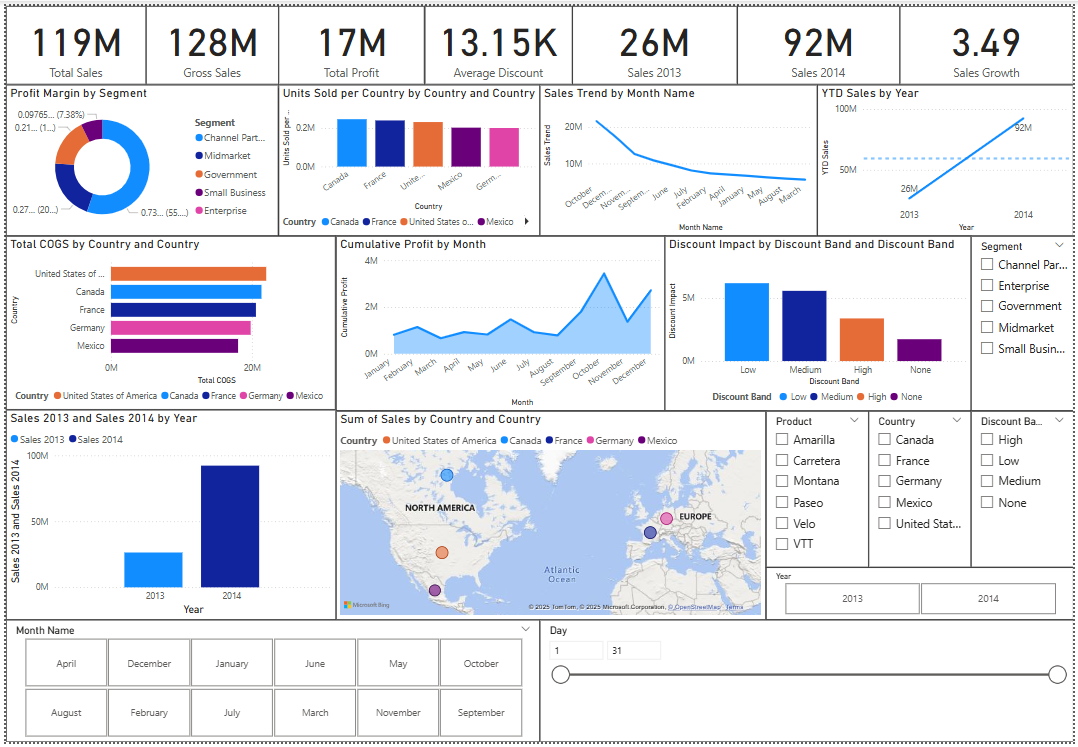

Layout of this report page (visuals, bound fields, positions):
{"tool":"powerbi","page":{"name":"Financials Data Analysis","canvas":[1480,1020],"ordinal":0},"visuals":[{"type":"card","fields":{"Values":["Financials.Total Sales"]},"box":[0,0,194,109.1],"z":0},{"type":"card","fields":{"Values":["Financials.Gross Sales"]},"box":[194,0,183.6,109.1],"z":1000},{"type":"card","fields":{"Values":["Financials.Total Profit"]},"box":[377.7,0,202.7,109.1],"z":2000},{"type":"card","fields":{"Values":["Financials.Average Discount"]},"box":[580.3,0,204.4,109.1],"z":3000},{"type":"donutChart","fields":{"Y":["Financials.Profit Margin"],"Category":["Financials.Segment"]},"box":[0,109.1,377.7,209.6],"z":4000},{"type":"columnChart","fields":{"Y":["Financials.Units Sold per Country"],"Category":["Financials.Country"],"Series":["Financials.Country"]},"box":[377.7,109.1,362.1,209.6],"z":5000},{"type":"lineChart","fields":{"Category":["Financials. Month Name "],"Y":["Financials.Sales Trend"]},"box":[739.7,109.1,384.6,209.6],"z":6000},{"type":"lineChart","fields":{"Y":["Financials.YTD Sales"],"Category":["Financials.Date.Variation.Date Hierarchy.Year"]},"box":[1124.3,109.1,355.1,209.6],"z":7000},{"type":"barChart","fields":{"Category":["Financials.Country"],"Y":["Financials.Total COGS"],"Series":["Financials.Country"]},"box":[0,319,456.8,240.8],"z":8000},{"type":"areaChart","fields":{"Category":["Financials.Date.Variation.Date Hierarchy.Month"],"Y":["Financials.Cumulative Profit"]},"box":[457.3,318.8,455.6,242.5],"z":9000},{"type":"columnChart","fields":{"Category":["Financials. Discount Band "],"Y":["Financials.Discount Impact"],"Series":["Financials. Discount Band "]},"box":[912.9,318.8,424.4,242.5],"z":10000},{"type":"columnChart","fields":{"Category":["Financials.Date.Variation.Date Hierarchy.Year"],"Y":["Financials.Sales 2013","Financials.Sales 2014"]},"box":[0,559.5,457.3,291],"z":11000},{"type":"card","fields":{"Values":["Financials.Sales 2013"]},"box":[784.8,0,228.7,109.1],"z":12000},{"type":"card","fields":{"Values":["Financials.Sales 2014"]},"box":[1013.4,0,225.2,109.1],"z":13000},{"type":"card","fields":{"Values":["Financials.Sales Growth"]},"box":[1238.6,0,240.8,109.1],"z":14000},{"type":"map","fields":{"Category":["Financials.Country"],"Series":["Financials.Country"],"Size":["Sum(Financials.  Sales )"]},"box":[457.3,561.3,595.9,289.3],"z":15000},{"type":"slicer","fields":{"Values":["Financials. Product "]},"box":[1053.3,561.3,142.1,216.5],"z":16000},{"type":"slicer","fields":{"Values":["Financials.Country"]},"box":[1195.3,561.3,142.1,216.5],"z":17000},{"type":"slicer","fields":{"Values":["Financials.Segment"]},"box":[1337.4,318.8,142.1,242.5],"z":18000},{"type":"slicer","fields":{"Values":["Financials. Discount Band "]},"box":[1337.4,561.3,142.1,216.5],"z":19000},{"type":"slicer","fields":{"Values":["Financials.Year"]},"box":[1053.3,777.8,426.2,72.8],"z":20000},{"type":"slicer","fields":{"Values":["Financials. Month Name "]},"box":[0,850.6,739.7,169.8],"z":21000},{"type":"slicer","fields":{"Values":["Financials.Date.Variation.Date Hierarchy.Day"]},"box":[739.7,850.6,739.7,169.8],"z":22000}]}

Visuals, with their boxes in screenshot pixels (x1, y1, x2, y2), scaled from the page's 1480x1020 canvas onto the 1078x747 screenshot:
card - Financials.Total Sales: box=[0, 0, 141, 80]
card - Financials.Gross Sales: box=[141, 0, 275, 80]
card - Financials.Total Profit: box=[275, 0, 423, 80]
card - Financials.Average Discount: box=[423, 0, 572, 80]
donutChart - Financials.Profit Margin x Financials.Segment: box=[0, 80, 275, 233]
columnChart - Financials.Units Sold per Country x Financials.Country: box=[275, 80, 539, 233]
lineChart - Financials. Month Name  x Financials.Sales Trend: box=[539, 80, 819, 233]
lineChart - Financials.YTD Sales x Financials.Date.Variation.Date Hierarchy.Year: box=[819, 80, 1077, 233]
barChart - Financials.Country x Financials.Total COGS: box=[0, 234, 333, 410]
areaChart - Financials.Date.Variation.Date Hierarchy.Month x Financials.Cumulative Profit: box=[333, 233, 665, 411]
columnChart - Financials. Discount Band  x Financials.Discount Impact: box=[665, 233, 974, 411]
columnChart - Financials.Date.Variation.Date Hierarchy.Year x Financials.Sales 2013: box=[0, 410, 333, 623]
card - Financials.Sales 2013: box=[572, 0, 738, 80]
card - Financials.Sales 2014: box=[738, 0, 902, 80]
card - Financials.Sales Growth: box=[902, 0, 1077, 80]
map - Financials.Country x Financials.Country: box=[333, 411, 767, 623]
slicer - Financials. Product : box=[767, 411, 871, 570]
slicer - Financials.Country: box=[871, 411, 974, 570]
slicer - Financials.Segment: box=[974, 233, 1077, 411]
slicer - Financials. Discount Band : box=[974, 411, 1077, 570]
slicer - Financials.Year: box=[767, 570, 1077, 623]
slicer - Financials. Month Name : box=[0, 623, 539, 746]
slicer - Financials.Date.Variation.Date Hierarchy.Day: box=[539, 623, 1077, 746]
